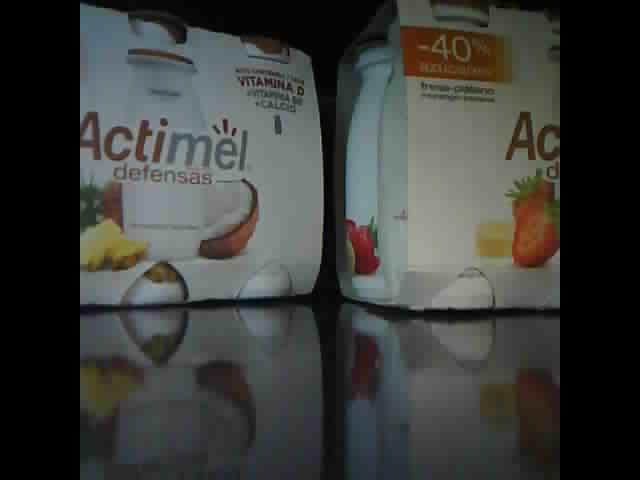actimel: (80, 2, 326, 310), (334, 1, 560, 316)
